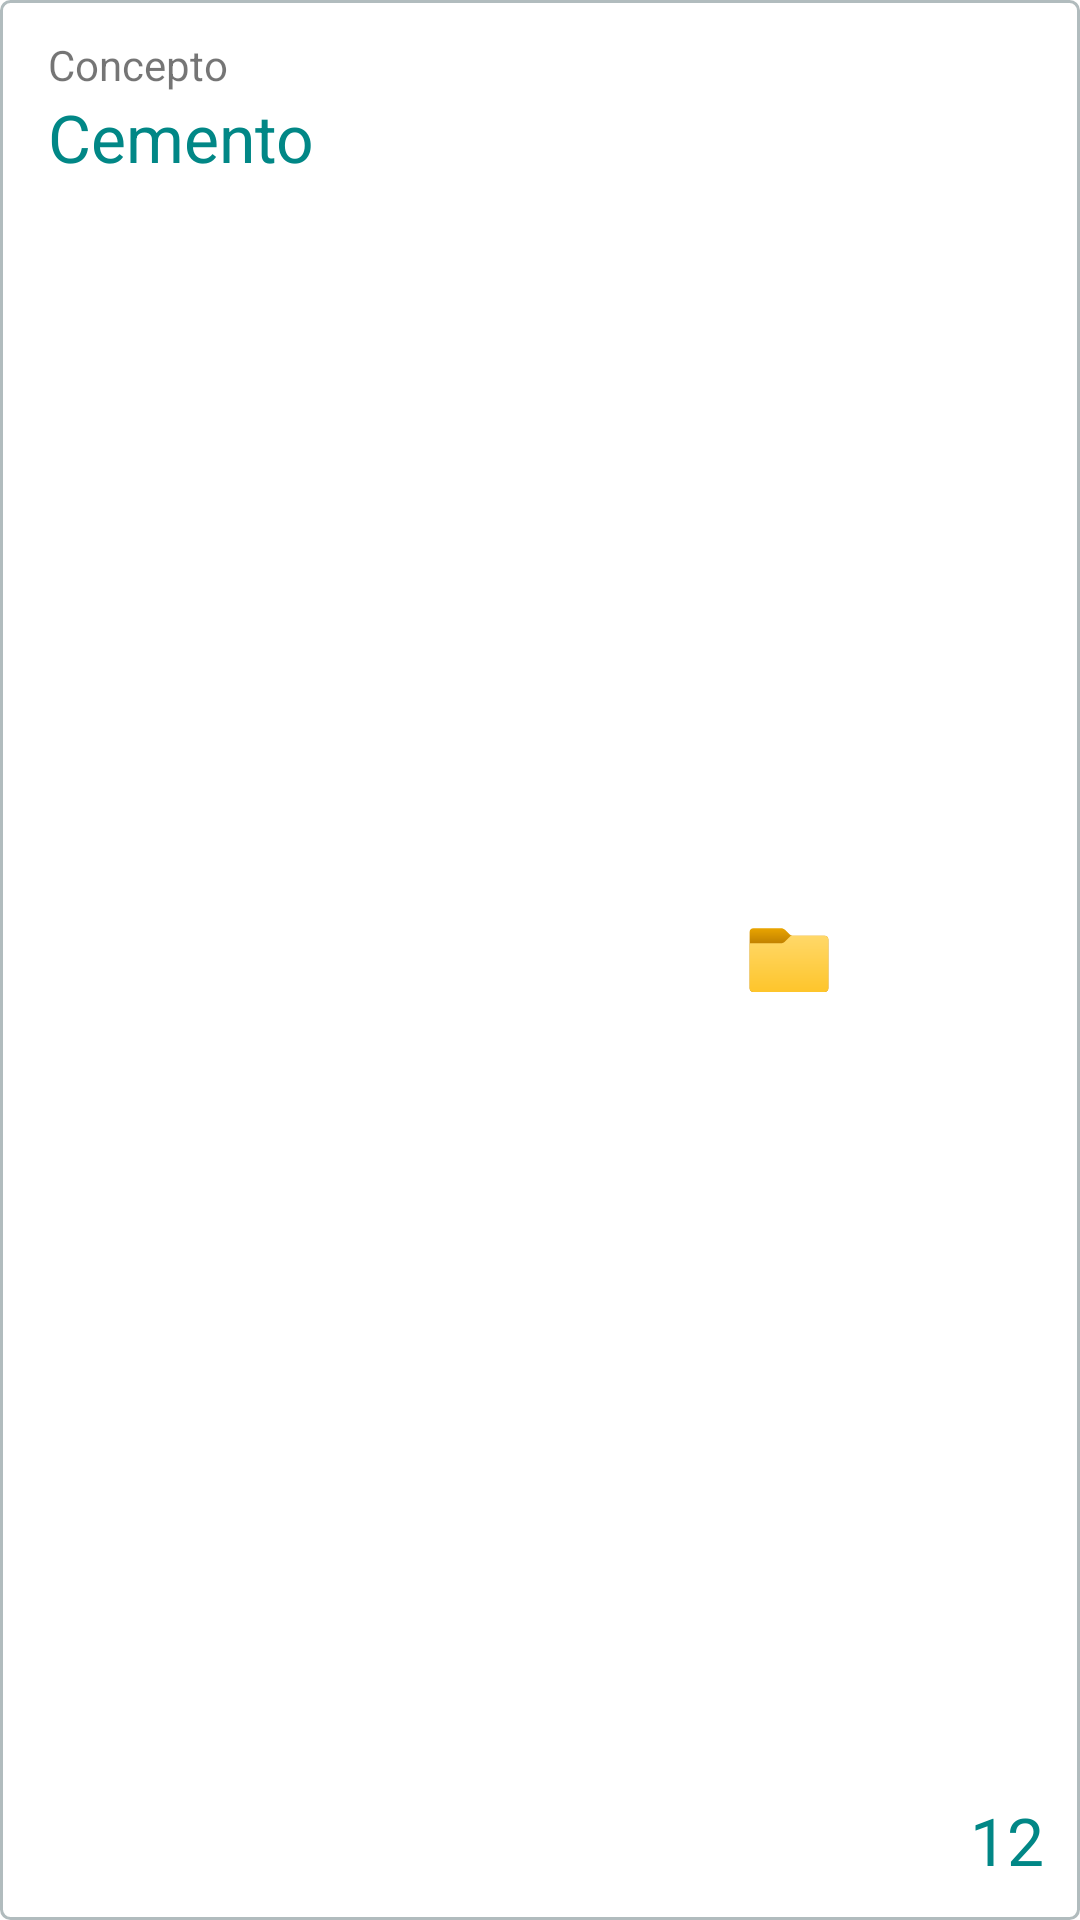

Locate icon controls on the screen. Image size 1080px x 1920px, boxes as Rect(x1, y1, x2, y2).
folder: Rect(749, 928, 829, 992)
